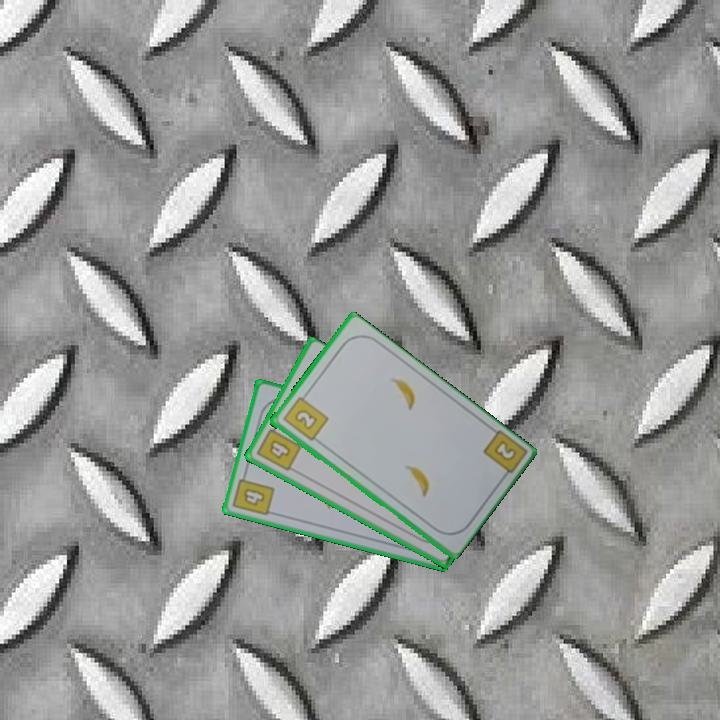2b: (279, 389, 331, 444), (490, 437, 519, 464)
4b: (253, 420, 304, 474), (229, 468, 277, 519)
